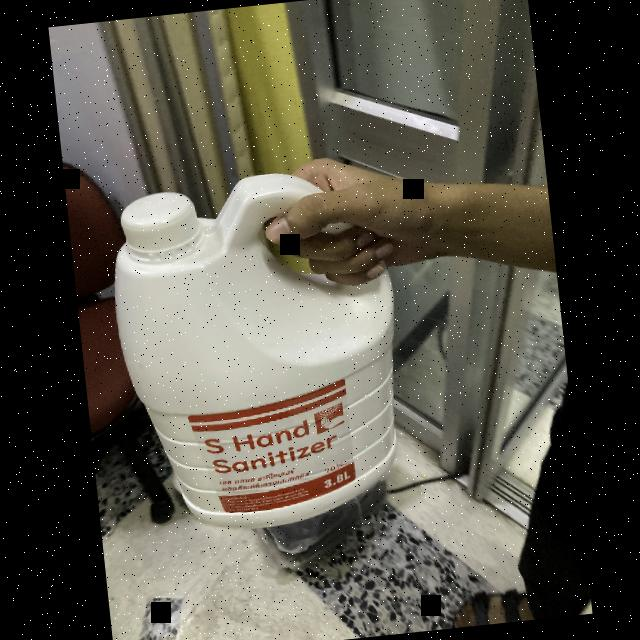chemical_plastic_gallon: (107, 161, 415, 542)
